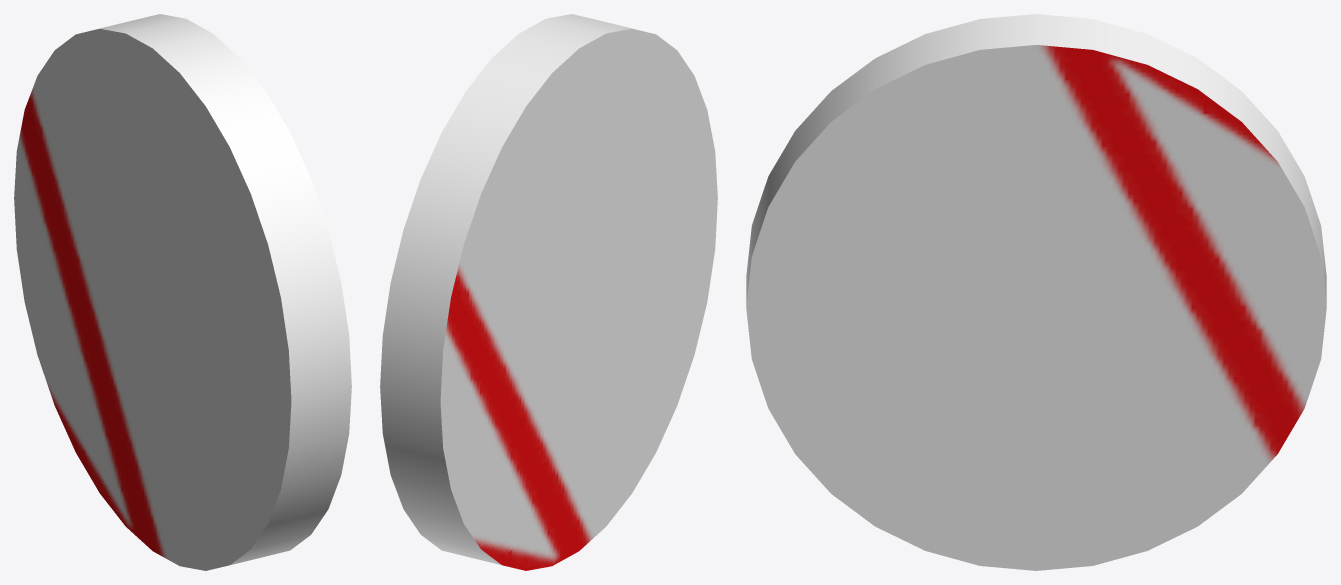
Rendered from One.fbx.
3 views of the same model, side by side, from view 1: azimuth 30°, elevation 25°; view 2: azimuth 150°, elevation 25°; view 3: azimuth 270°, elevation 25° (orthographic). The views are drawn at different scales.
Visible parts, largest first — view 1: Atom.014; view 2: Atom.014; view 3: Atom.014.
Boxes of the visible parts, x1,y1,x2,y2 form: Atom.014: [14, 14, 351, 570]; Atom.014: [380, 14, 717, 570]; Atom.014: [746, 14, 1326, 570].
Size of the model in its own units: 25.15 by 200 by 200.
